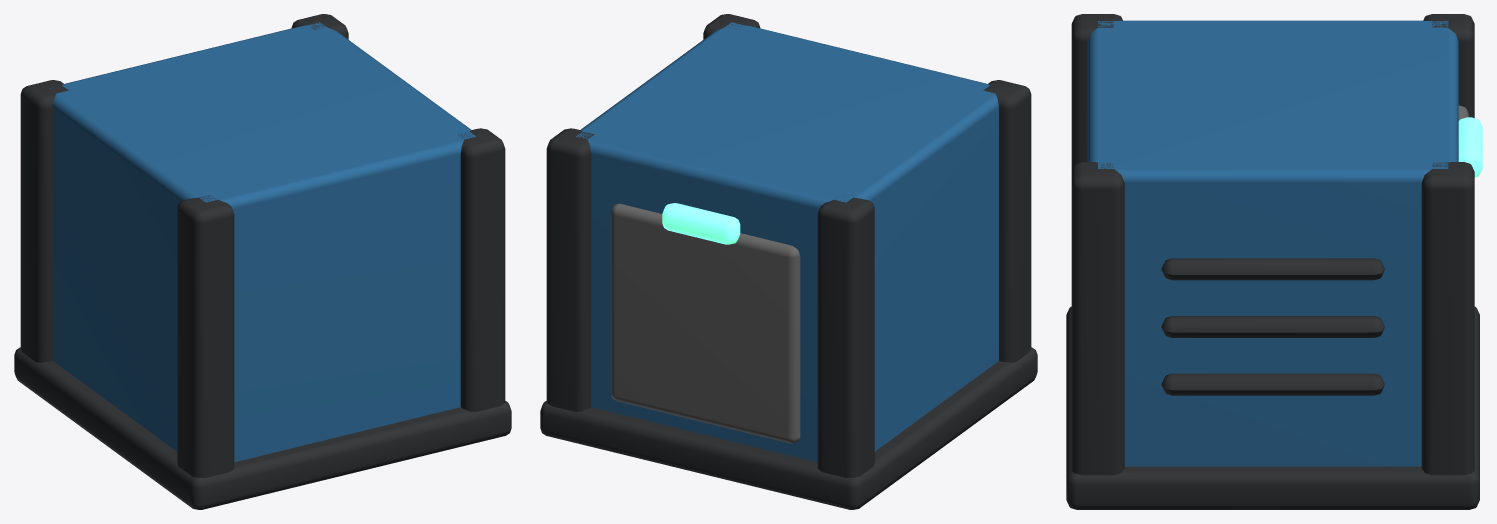
File: e-casing.glb
3 views of the same model, side by side, from view 1: azimuth 30°, elevation 25°; view 2: azimuth 150°, elevation 25°; view 3: azimuth 270°, elevation 25° (orthographic). The views are drawn at different scales.
Parts seen in each view (by area): view 1: e-casing; view 2: e-casing; view 3: e-casing.
Boxes of the visible parts, x1,y1,x2,y2 form: e-casing: (14,14,511,509); e-casing: (540,14,1037,509); e-casing: (1066,14,1482,509).
Bounding box in the file's own units: 0.785 × 0.69 × 0.785.
